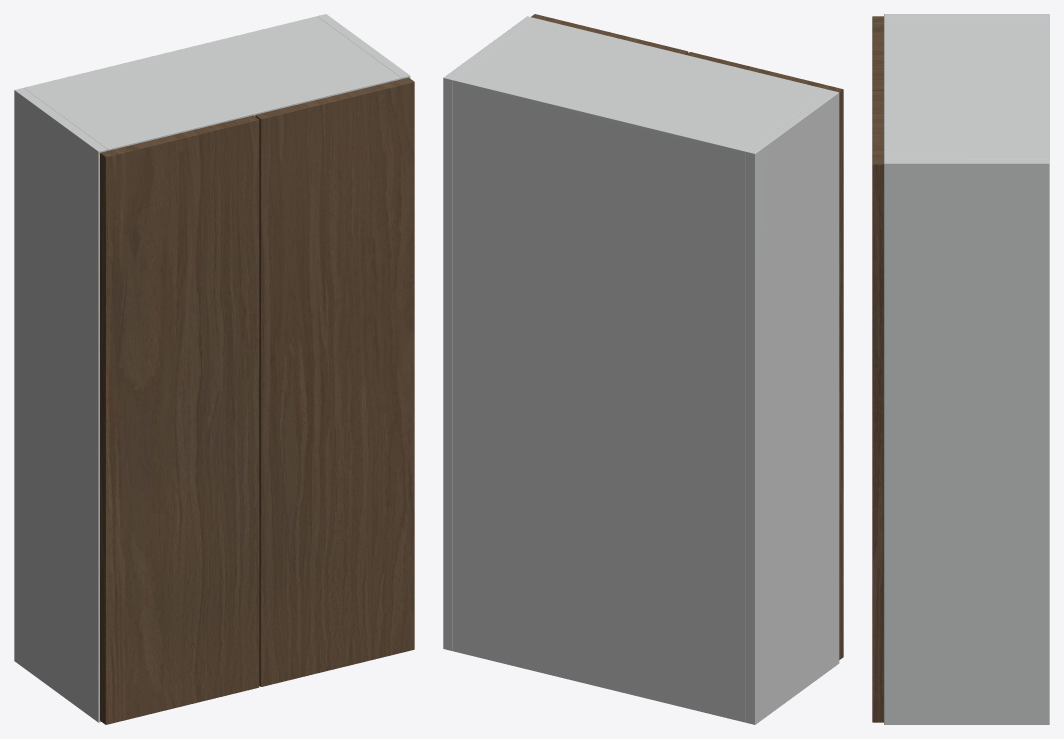
Rendered from oppein-ply-mso-w2442.glb.
3 views of the same model, side by side, from view 1: azimuth 30°, elevation 25°; view 2: azimuth 150°, elevation 25°; view 3: azimuth 270°, elevation 25° (orthographic).
Parts seen in each view (by area): view 1: Door, Door.001, Cabinet side, Cabinet top, Cabinet side.001; view 2: Cabinet back, Cabinet side, Cabinet top, Cabinet side.001, Door, Door.001; view 3: Cabinet side.001, Cabinet top, Door.001, Door, Cabinet side.
Boxes of the visible parts, left/top/right/bottom form: Door: left=100, top=115, right=259, bottom=724; Door.001: left=255, top=77, right=414, bottom=686; Cabinet side: left=14, top=88, right=107, bottom=722; Cabinet top: left=24, top=16, right=400, bottom=150; Cabinet side.001: left=317, top=14, right=410, bottom=79; Cabinet back: left=452, top=81, right=745, bottom=722; Cabinet side: left=746, top=90, right=839, bottom=724; Cabinet top: left=452, top=18, right=829, bottom=160; Cabinet side.001: left=443, top=16, right=536, bottom=650; Door: left=686, top=52, right=843, bottom=659; Door.001: left=531, top=14, right=688, bottom=54; Cabinet side.001: left=884, top=159, right=1049, bottom=724; Cabinet top: left=884, top=18, right=1049, bottom=159; Door.001: left=872, top=90, right=883, bottom=722; Door: left=872, top=16, right=883, bottom=90; Cabinet side: left=884, top=14, right=1049, bottom=18.
Bounding box in the file's own units: 0.6096 × 1.07 × 0.3048.
Materials: 2 (1 with a texture image).
